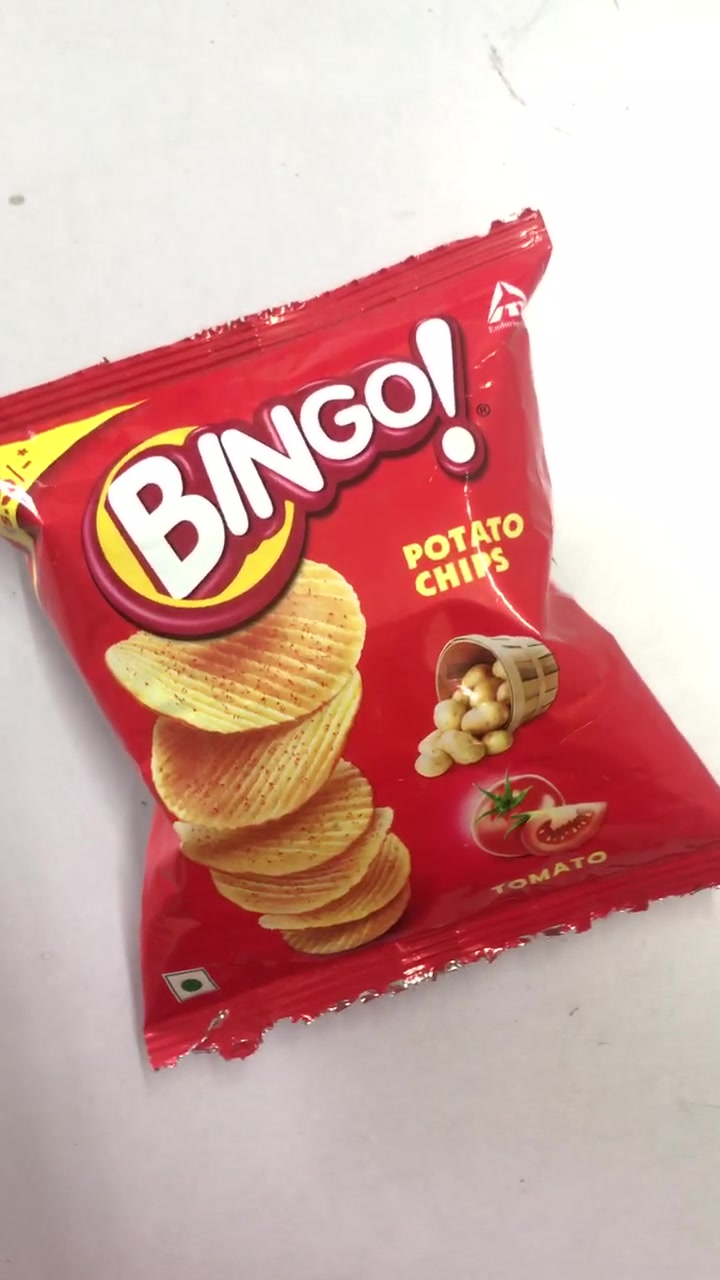Bingo: (5, 260, 702, 1039)
